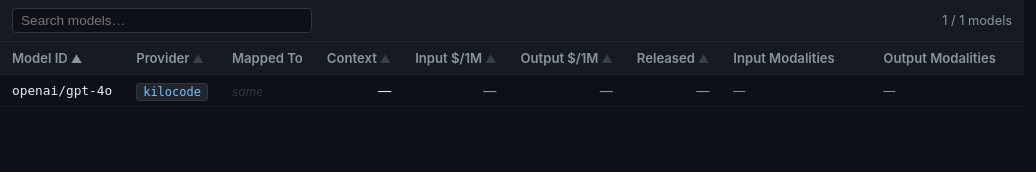
Test: ModelsWorkspace component › shows empty message when no models match search
The width and height of the screenshot is (1036, 172).
Check: the text "1 / 1 models" is shown, box [942, 13, 1012, 28]
Type "anthropic" into the field with placeholder "Search models…" at [162, 20], box [12, 8, 312, 33]
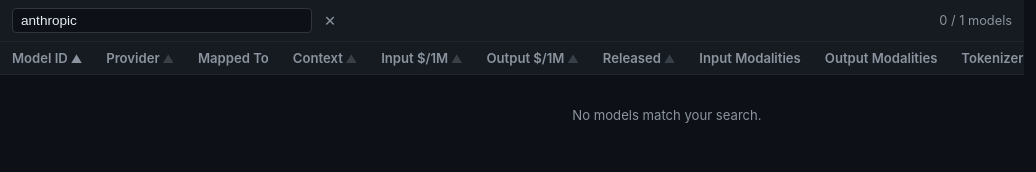
Check: the text "No models match your search." is shown, box [0, 74, 1024, 155]
